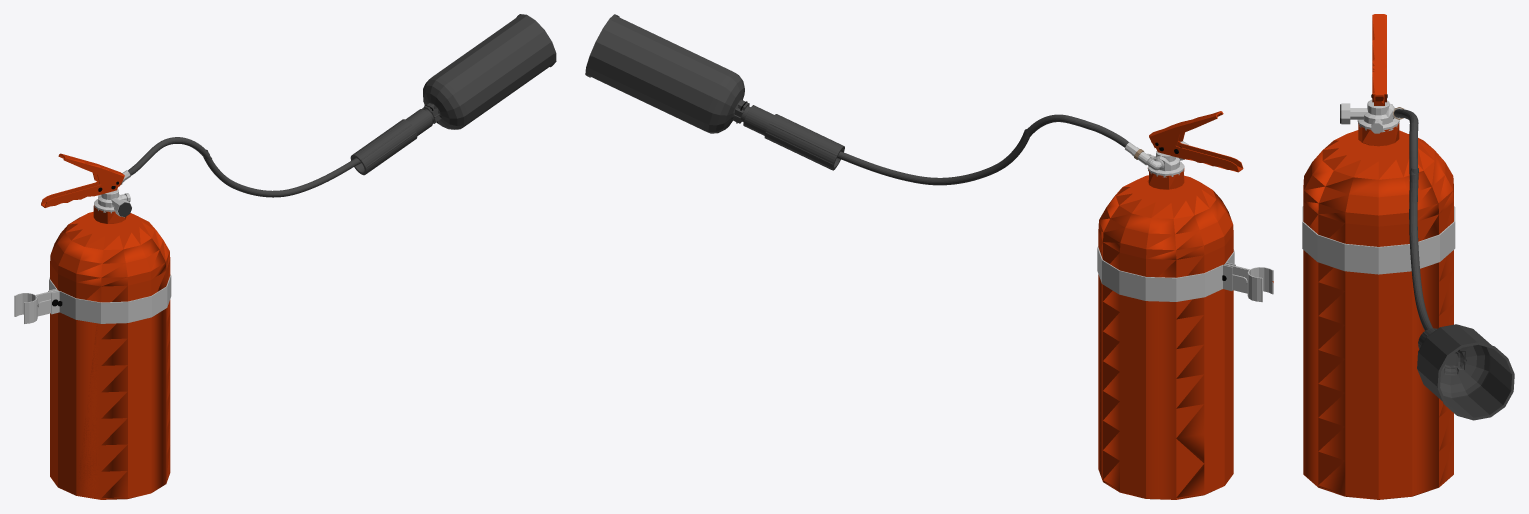
3 renders of one model, left to right at view 1: azimuth 30°, elevation 25°; view 2: azimuth 150°, elevation 25°; view 3: azimuth 270°, elevation 25°, orthographic. The views are drawn at different scales.
Visible parts, largest first — view 1: Base_01.002, Base_04, Base_01.001, Base_04.002, Base_02; view 2: Base_01.002, Base_04, Base_01.001, Base_04.002, Base_02; view 3: Base_01.002, Base_04, Base_01.001, Base_04.002, Base_02.
Part boxes in pixels (x1,y1,x2,y2): Base_01.002: [41, 153, 170, 499]; Base_04: [422, 14, 556, 129]; Base_01.001: [14, 170, 171, 323]; Base_04.002: [203, 119, 417, 197]; Base_02: [127, 137, 211, 175]; Base_01.002: [1098, 111, 1273, 499]; Base_04: [585, 14, 749, 133]; Base_01.001: [1097, 141, 1273, 302]; Base_04.002: [764, 114, 1029, 185]; Base_02: [1025, 114, 1129, 147]; Base_01.002: [1303, 14, 1453, 499]; Base_04: [1417, 324, 1514, 420]; Base_01.001: [1302, 99, 1455, 274]; Base_04.002: [1409, 168, 1436, 348]; Base_02: [1394, 109, 1418, 181].
Size of the model in its own units: 840 by 471 by 214.
